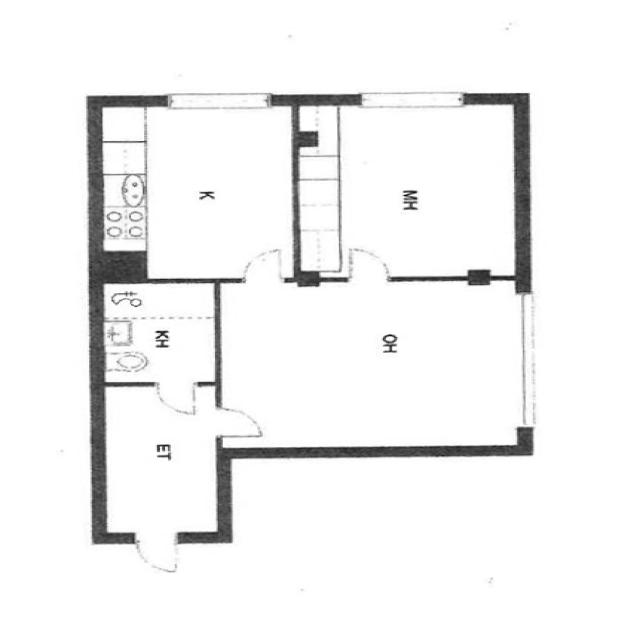door: (126, 532, 186, 579), (340, 242, 395, 284), (238, 244, 292, 286), (149, 378, 203, 419), (210, 403, 269, 440)
window: (502, 287, 552, 433), (347, 85, 478, 116), (155, 86, 282, 117)
zone: (214, 279, 532, 454), (296, 101, 523, 280), (97, 101, 302, 281), (101, 384, 219, 540), (96, 280, 220, 384)
